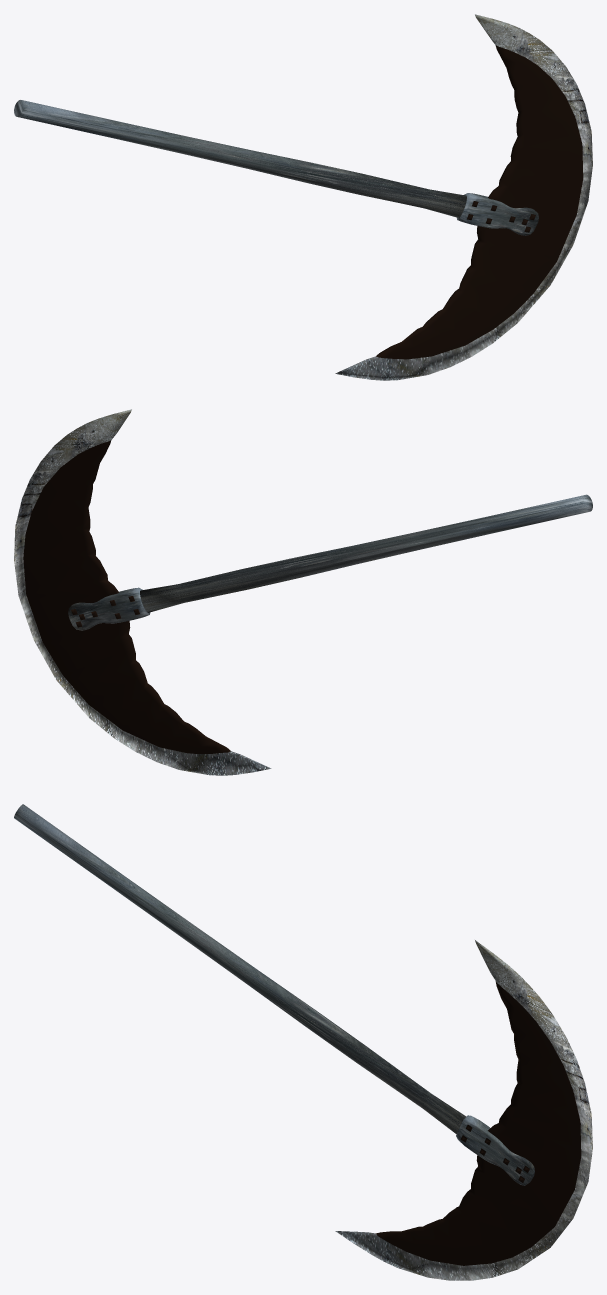
File: pendulum.fbx
3 views of the same model, one above another, from view 1: azimuth 30°, elevation 25°; view 2: azimuth 150°, elevation 25°; view 3: azimuth 330°, elevation 25° (orthographic).
Parts seen in each view (by area): view 1: Cylinder; view 2: Cylinder; view 3: Cylinder.
Boxes of the visible parts, x1,y1,x2,y2 form: Cylinder: (14, 14, 592, 380); Cylinder: (14, 409, 592, 775); Cylinder: (14, 804, 592, 1280).
Size of the model in its own units: 389 by 241 by 10.68.
Materials: 3 (2 with a texture image).
